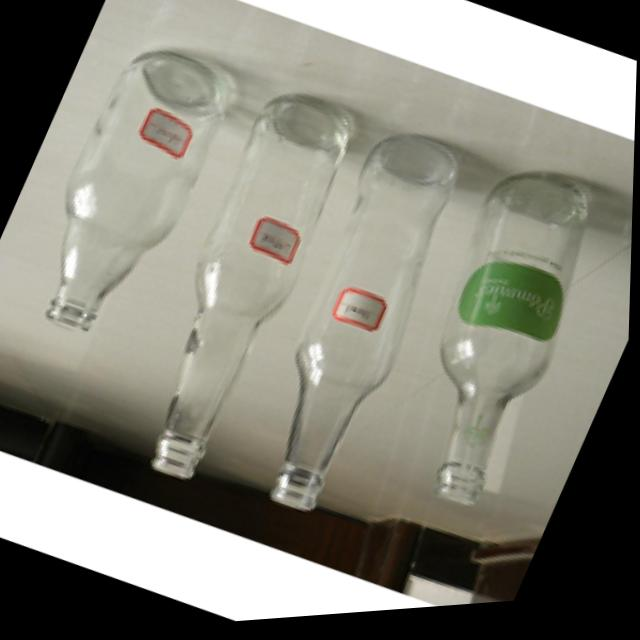glass_beverage_bottles: (104, 81, 374, 504), (220, 116, 491, 537), (365, 157, 626, 536), (2, 31, 242, 366)
